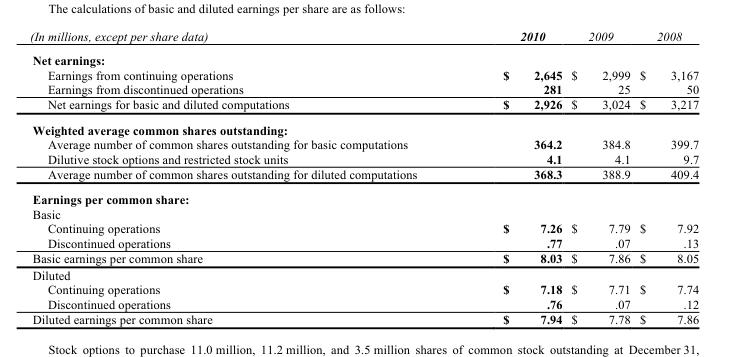table: (29, 28, 698, 326)
table column: (29, 28, 459, 326), (459, 28, 566, 326), (566, 28, 634, 326), (634, 28, 698, 326)
table column header: (29, 28, 698, 47)
table projected row header: (29, 47, 698, 67), (29, 186, 698, 206), (29, 117, 698, 136), (29, 266, 698, 281), (29, 206, 698, 220)
table row: (29, 96, 698, 117), (29, 47, 698, 67), (29, 166, 698, 186), (29, 186, 698, 206), (29, 28, 698, 47), (29, 117, 698, 136), (29, 250, 698, 266), (29, 81, 698, 96), (29, 136, 698, 151), (29, 151, 698, 166), (29, 220, 698, 235), (29, 235, 698, 250), (29, 266, 698, 281), (29, 281, 698, 296), (29, 296, 698, 311), (29, 311, 698, 326), (29, 67, 698, 81), (29, 206, 698, 220)
